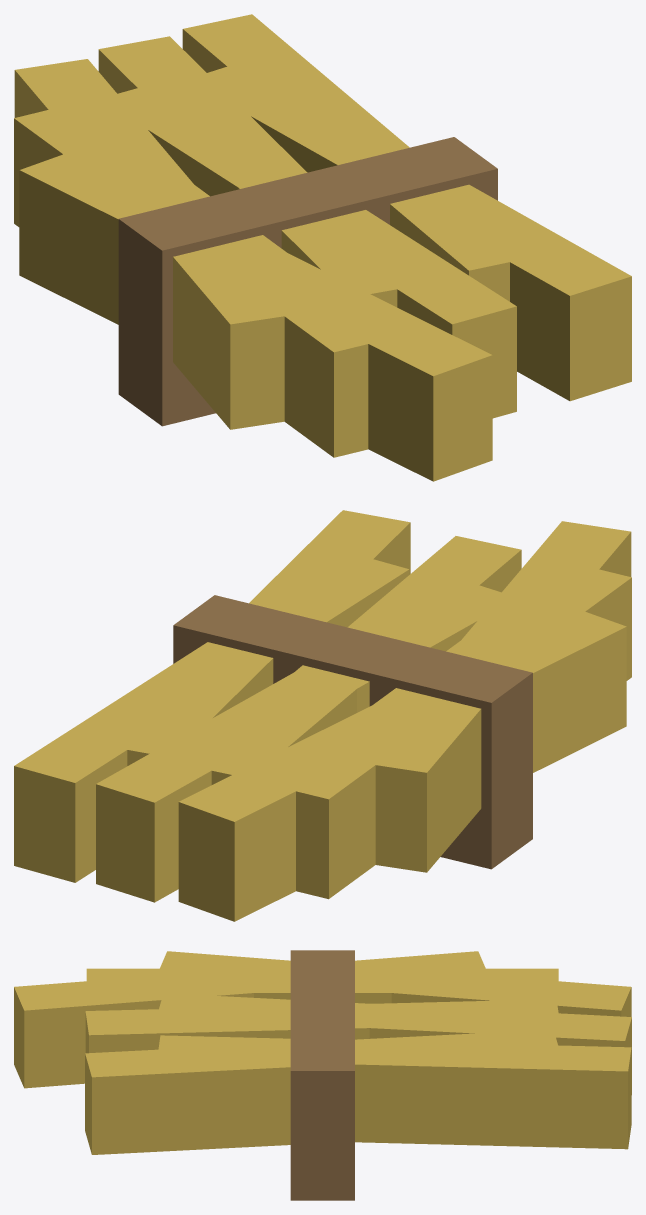
The model's file is grain.glb.
The picture shows the model from 3 angles, top to bottom: view 1: azimuth 30°, elevation 25°; view 2: azimuth 150°, elevation 25°; view 3: azimuth 270°, elevation 25°; orthographic projection. The views are drawn at different scales.
Parts seen in each view (by area): view 1: Straw6, Straw0, Binding, Straw5, Straw3, Straw4, Straw2, Straw1; view 2: Straw0, Binding, Straw2, Straw1, Straw6, Straw3, Straw4, Straw5; view 3: Straw2, Straw5, Binding, Straw6, Straw1, Straw0, Straw3, Straw4.
Boxes of the visible parts, left/top/right/bottom form: Straw6: left=19, top=149, right=492, bottom=481; Straw0: left=14, top=59, right=302, bottom=429; Binding: left=118, top=137, right=497, bottom=426; Straw5: left=186, top=60, right=631, bottom=401; Straw3: left=14, top=102, right=400, bottom=457; Straw4: left=100, top=81, right=516, bottom=418; Straw2: left=182, top=14, right=537, bottom=301; Straw1: left=98, top=36, right=420, bottom=307; Straw0: left=178, top=606, right=626, bottom=921; Binding: left=173, top=595, right=532, bottom=869; Straw2: left=14, top=552, right=409, bottom=882; Straw1: left=96, top=579, right=517, bottom=902; Straw6: left=358, top=521, right=631, bottom=872; Straw3: left=266, top=562, right=631, bottom=899; Straw4: left=186, top=536, right=521, bottom=784; Straw5: left=112, top=510, right=410, bottom=765; Straw2: left=157, top=1035, right=631, bottom=1149; Straw5: left=85, top=1029, right=560, bottom=1154; Binding: left=290, top=950, right=354, bottom=1200; Straw6: left=14, top=951, right=485, bottom=1088; Straw1: left=156, top=993, right=631, bottom=1094; Straw0: left=157, top=951, right=631, bottom=1016; Straw3: left=86, top=968, right=558, bottom=1003; Straw4: left=85, top=999, right=558, bottom=1053.
Bounding box in the file's own units: 0.4184 × 0.2 × 0.8642.
